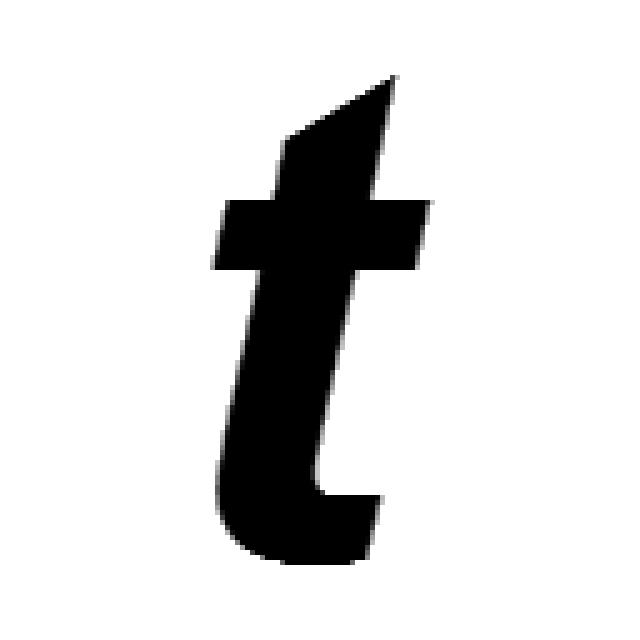T: (200, 65, 440, 565)
